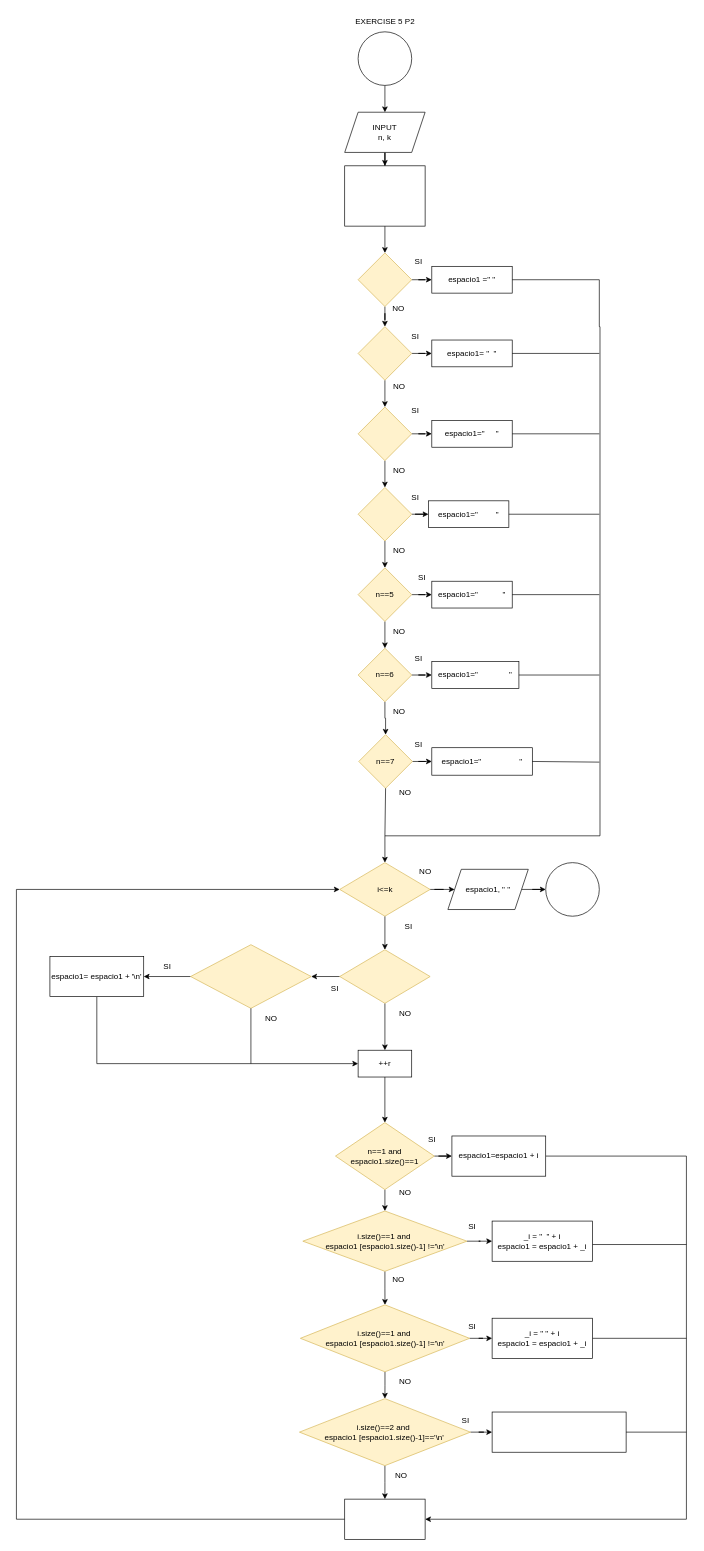
Some shapes in this 704 by 1551 pixel diagram are drawn without their labels. The centre of each missing label's shape, as x and y in pixels:
"++i" goes at (x=384, y=1518).
"espacio1 = espacio1 + i" goes at (x=558, y=1431).
"espacio1 _i i=0 r=0" goes at (x=384, y=195).
"espacio1.size()== s+(s*r) + r" goes at (x=250, y=976).
"FIN" goes at (x=572, y=889).
"INICIO" goes at (x=384, y=58).
"n==1" goes at (x=384, y=279).
"n==2" goes at (x=384, y=353).
"n==3" goes at (x=384, y=433).
"n==4" goes at (x=384, y=514).
"r<=14" goes at (x=384, y=976).
